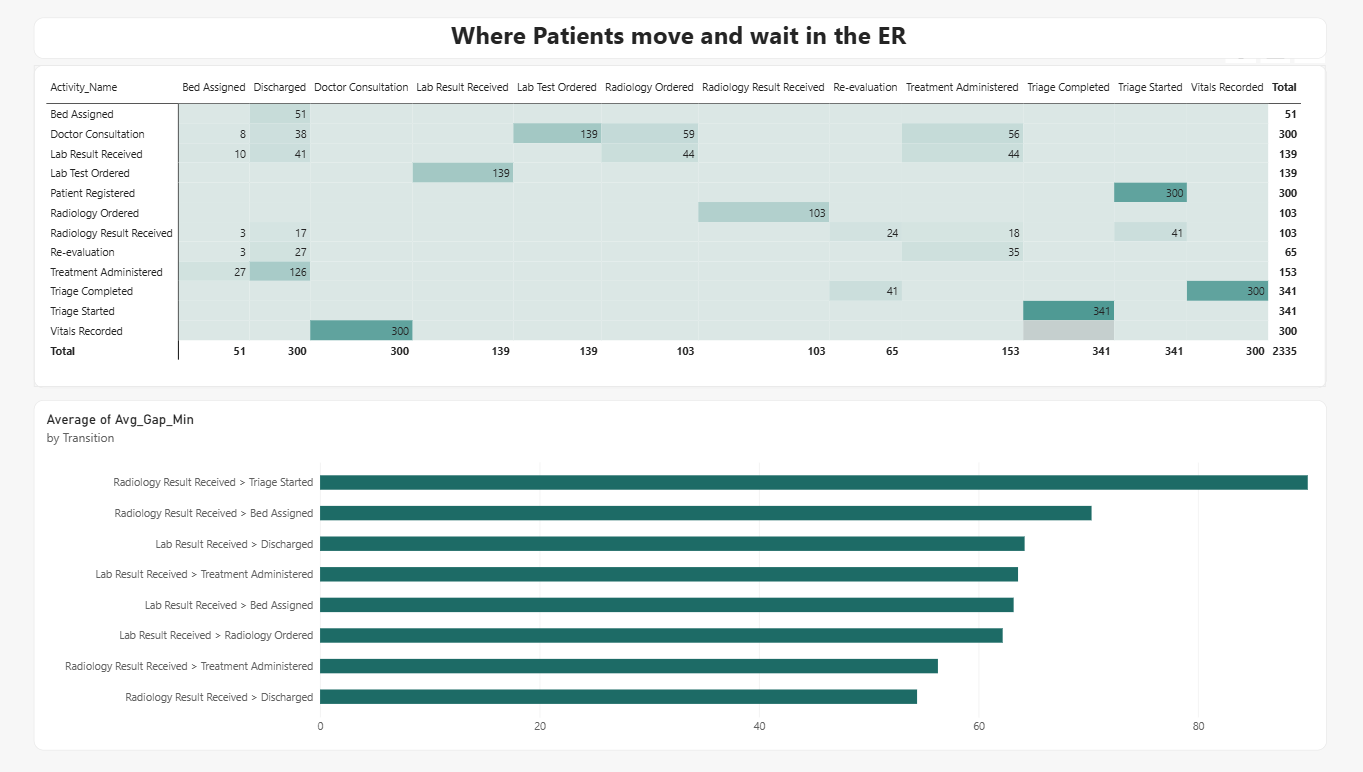

Layout of this report page (visuals, bound fields, positions):
{"tool":"powerbi","page":{"name":"Process Map","canvas":[1920,1080],"ordinal":0},"visuals":[{"type":"pivotTable","fields":{"Columns":["edges.Next_Activity"],"Rows":["edges.Activity_Name"],"Values":["Sum(edges.Patients)"]},"box":[103.1,98.4,1706.2,426.6],"z":0},{"type":"clusteredBarChart","fields":{"Category":["edges.Transition"],"Y":["Avg(edges.Avg_Gap_Min)"]},"box":[103.1,540.6,1706.2,462.5],"z":1000},{"type":"textbox","box":[103.1,35.9,1706.2,54.7],"z":2000}]}

Visuals, with their boxes in screenshot pixels (x1, y1, x2, y2), scaled from the page's 1920x1080 canvas onto the 1363x772 screenshot:
pivotTable - edges.Next_Activity x edges.Activity_Name: (73,70,1284,375)
clusteredBarChart - edges.Transition x Avg(edges.Avg_Gap_Min): (73,386,1284,717)
textbox: (73,26,1284,65)
